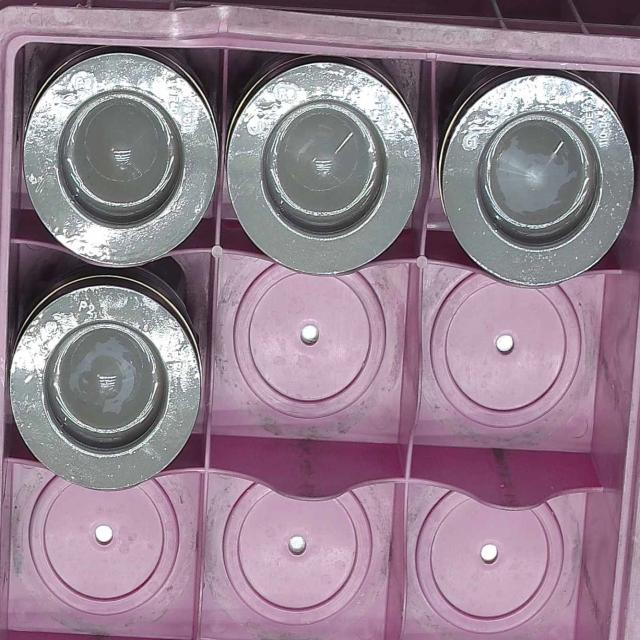P2: (225, 50, 428, 276), (437, 55, 633, 287), (22, 48, 221, 270), (10, 281, 198, 494)
